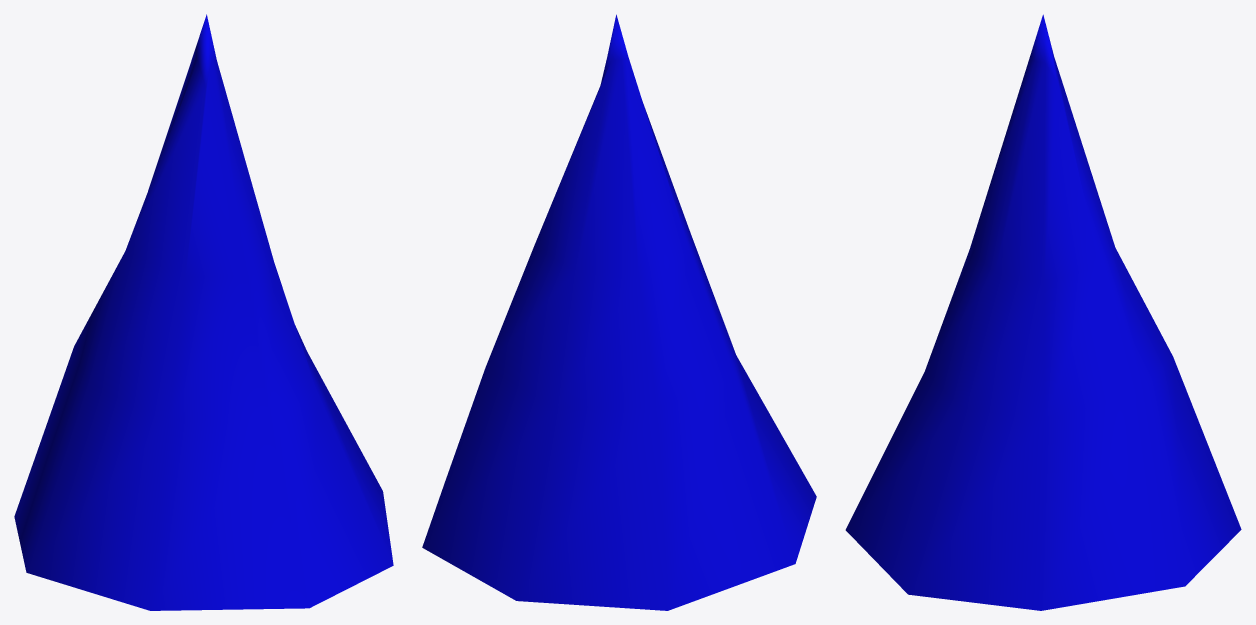
Rendered from Spike01_mesh.fbx.
3 renders of one model, left to right at view 1: azimuth 30°, elevation 25°; view 2: azimuth 150°, elevation 25°; view 3: azimuth 270°, elevation 25°, orthographic.
Visible parts, largest first — view 1: Spike01_mesh; view 2: Spike01_mesh; view 3: Spike01_mesh.
Part boxes in pixels (x1,y1,x2,y2): Spike01_mesh: (14, 14, 393, 610); Spike01_mesh: (422, 14, 816, 610); Spike01_mesh: (845, 14, 1241, 610).
Size of the model in its own units: 1.38 by 1.96 by 1.34.
